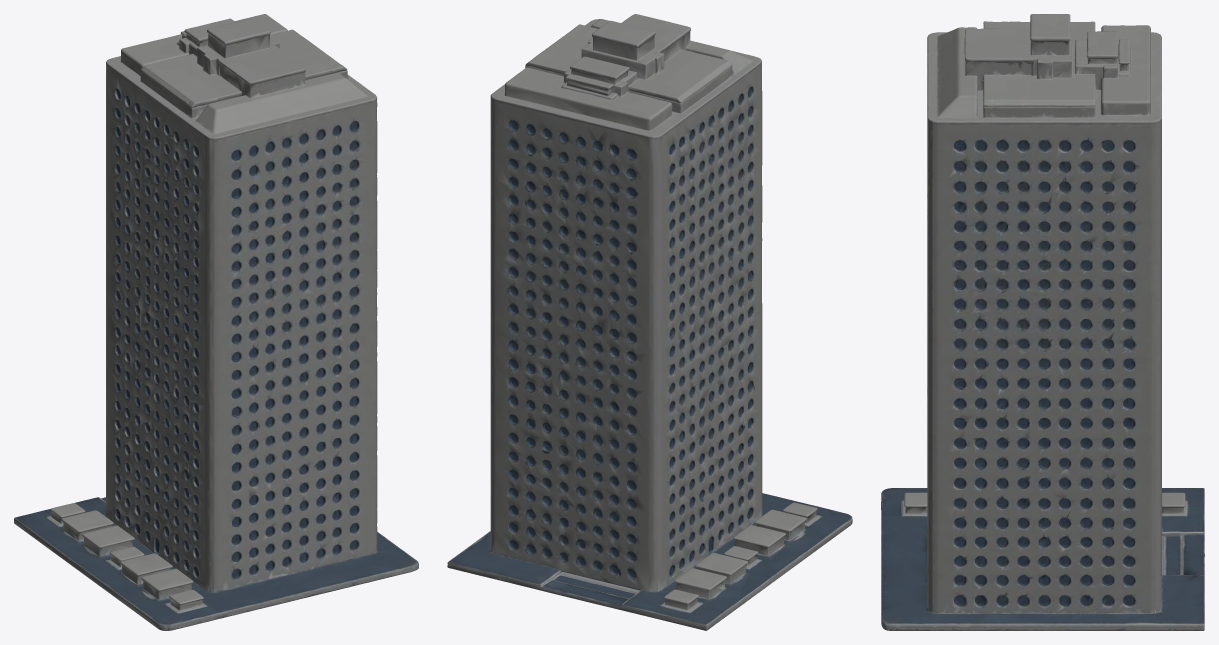
File: jardine-house.glb
3 renders of one model, left to right at view 1: azimuth 30°, elevation 25°; view 2: azimuth 150°, elevation 25°; view 3: azimuth 270°, elevation 25°, orthographic. The views are drawn at different scales.
Visible parts, largest first — view 1: tripo_node_73a51eb5-1a88-49a0-ad5c-53d41eb2576e; view 2: tripo_node_73a51eb5-1a88-49a0-ad5c-53d41eb2576e; view 3: tripo_node_73a51eb5-1a88-49a0-ad5c-53d41eb2576e.
Boxes of the visible parts, bbox=[...] form: tripo_node_73a51eb5-1a88-49a0-ad5c-53d41eb2576e: bbox=[14, 14, 418, 630]; tripo_node_73a51eb5-1a88-49a0-ad5c-53d41eb2576e: bbox=[447, 14, 852, 630]; tripo_node_73a51eb5-1a88-49a0-ad5c-53d41eb2576e: bbox=[881, 14, 1204, 630].
Size of the model in its own units: 0.5336 by 1 by 0.5331.
Materials: 1 (1 with a texture image).
